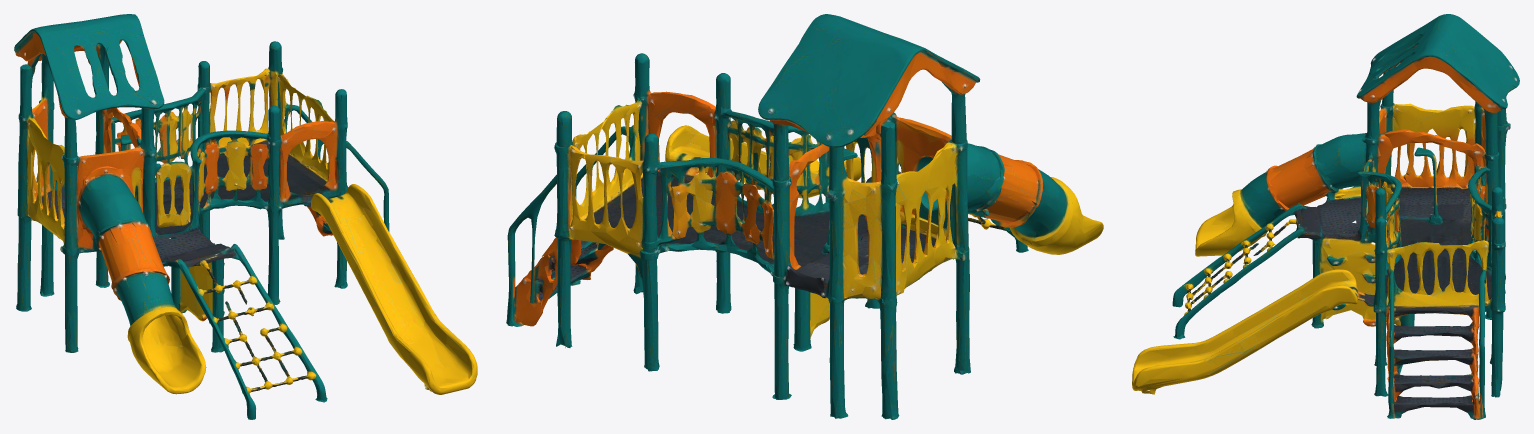
File: w5playground.glb
The picture shows the model from 3 angles, left to right: view 1: azimuth 30°, elevation 25°; view 2: azimuth 150°, elevation 25°; view 3: azimuth 270°, elevation 25°; orthographic projection. The views are drawn at different scales.
Parts seen in each view (by area): view 1: output_unwrapped; view 2: output_unwrapped; view 3: output_unwrapped.
Part boxes in pixels (bbox=[...]): output_unwrapped: bbox=[14, 14, 477, 419]; output_unwrapped: bbox=[506, 14, 1103, 419]; output_unwrapped: bbox=[1132, 14, 1519, 419].
Bounding box in the file's own units: 4.01 × 3.3 × 4.35.
Materials: 1 (1 with a texture image).
